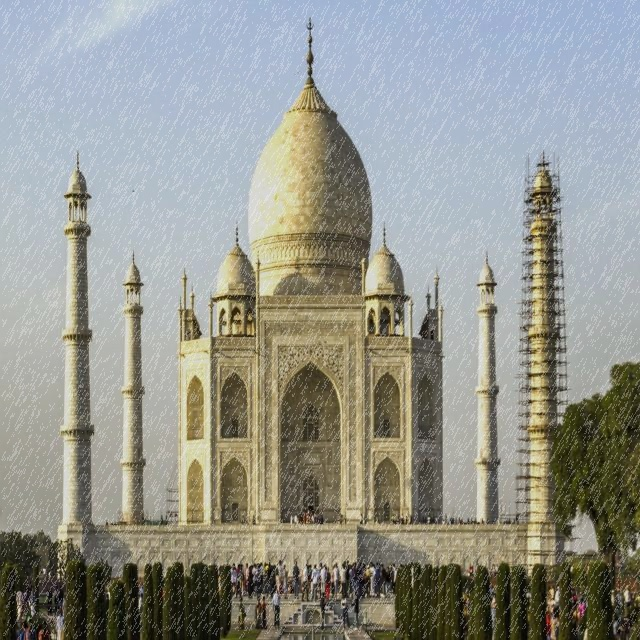pessoa: (545, 584, 561, 640), (448, 515, 517, 526), (461, 586, 471, 639), (296, 508, 324, 526), (489, 582, 497, 640), (24, 580, 36, 616), (524, 586, 532, 637), (310, 562, 320, 602), (263, 559, 274, 595), (340, 592, 350, 630), (330, 562, 340, 600), (319, 590, 328, 630), (23, 614, 37, 639), (56, 606, 66, 640), (623, 584, 632, 621), (272, 588, 280, 629), (610, 608, 620, 640), (292, 560, 300, 600), (616, 618, 632, 638), (301, 563, 309, 602), (368, 561, 376, 598), (364, 563, 372, 599), (460, 562, 478, 578), (320, 563, 328, 598), (235, 563, 242, 602), (384, 566, 392, 599), (353, 590, 359, 632), (282, 563, 289, 599), (46, 585, 54, 616), (255, 595, 262, 630), (216, 566, 223, 601), (356, 560, 362, 600), (15, 586, 25, 610), (374, 561, 380, 599), (317, 561, 323, 599), (307, 563, 313, 599), (231, 562, 237, 598), (246, 564, 252, 598), (42, 620, 52, 640), (388, 562, 394, 595), (252, 562, 258, 595), (244, 562, 250, 595), (58, 583, 64, 615), (487, 560, 499, 576), (410, 563, 416, 595), (345, 558, 350, 596), (352, 563, 358, 594), (260, 594, 266, 624), (582, 620, 591, 640), (361, 562, 366, 598), (19, 620, 28, 640), (104, 594, 110, 623), (381, 563, 386, 597), (341, 564, 346, 598), (239, 562, 244, 596), (238, 596, 244, 624), (256, 564, 261, 596), (610, 588, 616, 614), (577, 599, 585, 618), (616, 586, 622, 611), (378, 562, 382, 598), (390, 512, 400, 526), (572, 586, 578, 608), (349, 564, 353, 596), (326, 567, 331, 592), (330, 565, 334, 595), (138, 592, 143, 616), (240, 514, 246, 533), (579, 591, 587, 605), (161, 582, 166, 604), (276, 560, 282, 578), (408, 512, 414, 530), (338, 513, 347, 525), (54, 584, 58, 610), (62, 592, 66, 618), (393, 562, 396, 592), (140, 602, 143, 632), (251, 514, 256, 532), (293, 512, 298, 530), (138, 583, 144, 597), (394, 564, 398, 584), (42, 564, 46, 584), (375, 514, 380, 528), (434, 514, 438, 531), (164, 514, 168, 530), (289, 512, 293, 528), (584, 562, 590, 572), (430, 512, 435, 524), (260, 560, 264, 574), (106, 588, 110, 602), (140, 515, 145, 526), (398, 562, 407, 568), (160, 514, 164, 526), (359, 513, 363, 525), (401, 512, 404, 526), (569, 563, 574, 571), (444, 513, 447, 525), (364, 514, 367, 525), (422, 515, 426, 523), (405, 516, 408, 526), (427, 514, 430, 524), (341, 558, 346, 564), (105, 518, 108, 526)
